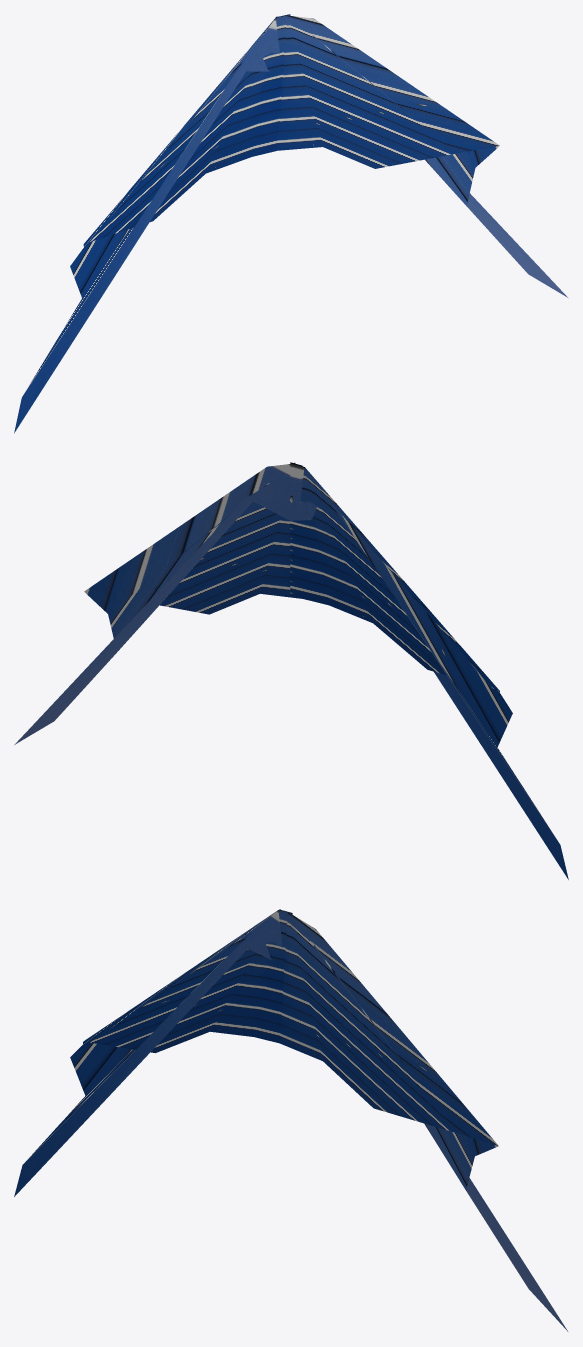
3 views of the same model, one above another, from view 1: azimuth 30°, elevation 25°; view 2: azimuth 150°, elevation 25°; view 3: azimuth 330°, elevation 25° (orthographic).
Visible parts, largest first — view 1: Origami_Model_53; view 2: Origami_Model_53; view 3: Origami_Model_53.
Part boxes in pixels (bbox=[...]): Origami_Model_53: bbox=[14, 14, 567, 433]; Origami_Model_53: bbox=[14, 462, 568, 879]; Origami_Model_53: bbox=[14, 909, 567, 1331].
Bounding box in the file's own units: 0.8 × 0.484 × 0.007.
1 material, 1 textured.
